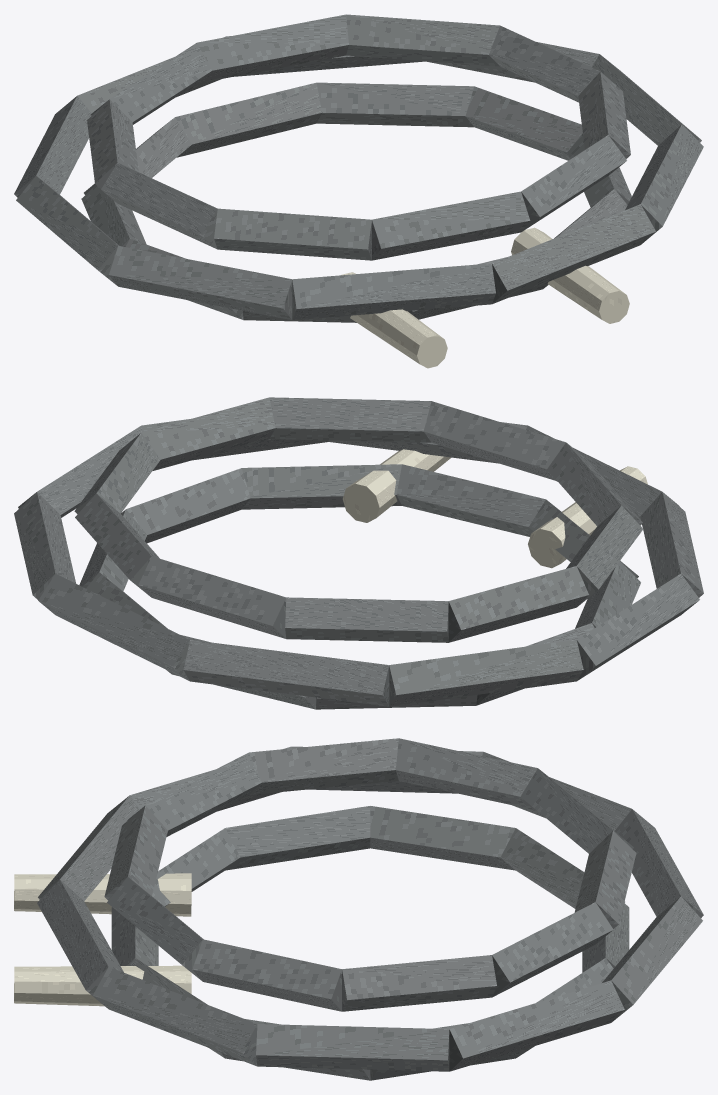
The picture shows the model from 3 angles, top to bottom: view 1: azimuth 30°, elevation 25°; view 2: azimuth 150°, elevation 25°; view 3: azimuth 270°, elevation 25°; orthographic projection. The views are drawn at different scales.
Parts seen in each view (by area): view 1: block_steel-sheathed heating element1-1, block_steel-sheathed heating element1-2, block_steel-sheathed heating element2-0, block_steel-sheathed heating element1-0, block_steel-sheathed heating element2-9, block_steel-sheathed heating element0-8, block_steel-sheathed heating element2-5, block_insulated terminal (×2), block_steel-sheathed heating element2-4, block_steel-sheathed heating element0-7, block_steel-sheathed heating element2-1, block_steel-sheathed heating element0-9 (+19 smaller); view 2: block_steel-sheathed heating element1-5, block_steel-sheathed heating element1-4, block_steel-sheathed heating element2-3, block_steel-sheathed heating element2-8, block_steel-sheathed heating element2-4, block_steel-sheathed heating element1-6, block_steel-sheathed heating element0-2, block_steel-sheathed heating element2-2, block_steel-sheathed heating element2-9, block_steel-sheathed heating element2-7, block_insulated terminal (×2), block_steel-sheathed heating element0-1 (+19 smaller); view 3: block_steel-sheathed heating element1-8, block_steel-sheathed heating element1-7, block_steel-sheathed heating element1-9, block_insulated terminal (×2), block_steel-sheathed heating element2-6, block_steel-sheathed heating element2-7, block_steel-sheathed heating element2-1, block_steel-sheathed heating element0-5, block_steel-sheathed heating element0-4, block_steel-sheathed heating element2-2, block_steel-sheathed heating element2-5, block_steel-sheathed heating element1-6 (+19 smaller).
Part boxes in pixels (<box>): block_steel-sheathed heating element1-1: <box>292,263,495,320</box>; block_steel-sheathed heating element1-2: <box>109,245,292,319</box>; block_steel-sheathed heating element2-0: <box>214,208,371,260</box>; block_steel-sheathed heating element1-0: <box>492,204,655,304</box>; block_steel-sheathed heating element2-9: <box>372,191,530,260</box>; block_steel-sheathed heating element0-8: <box>316,82,474,127</box>; block_steel-sheathed heating element2-5: <box>346,14,499,66</box>; block_insulated terminal (×2): <box>341,227,629,368</box>; block_steel-sheathed heating element2-4: <box>197,14,348,83</box>; block_steel-sheathed heating element0-7: <box>175,82,321,157</box>; block_steel-sheathed heating element2-1: <box>101,162,217,249</box>; block_steel-sheathed heating element0-9: <box>465,86,582,160</box>; block_steel-sheathed heating element1-5: <box>183,640,389,706</box>; block_steel-sheathed heating element1-4: <box>389,639,583,706</box>; block_steel-sheathed heating element2-3: <box>285,597,448,642</box>; block_steel-sheathed heating element2-8: <box>269,397,431,442</box>; block_steel-sheathed heating element2-4: <box>138,556,286,638</box>; block_steel-sheathed heating element1-6: <box>38,573,189,681</box>; block_steel-sheathed heating element0-2: <box>396,464,545,536</box>; block_steel-sheathed heating element2-2: <box>448,566,588,642</box>; block_steel-sheathed heating element2-9: <box>423,401,565,480</box>; block_steel-sheathed heating element2-7: <box>141,397,275,470</box>; block_insulated terminal (×2): <box>342,449,647,568</box>; block_steel-sheathed heating element0-1: <box>242,464,401,509</box>; block_steel-sheathed heating element1-8: <box>256,1024,449,1071</box>; block_steel-sheathed heating element1-7: <box>449,980,624,1071</box>; block_steel-sheathed heating element1-9: <box>93,967,257,1066</box>; block_insulated terminal (×2): <box>14,873,191,1006</box>; block_steel-sheathed heating element2-6: <box>342,955,496,1011</box>; block_steel-sheathed heating element2-7: <box>192,939,341,1011</box>; block_steel-sheathed heating element2-1: <box>249,738,398,794</box>; block_steel-sheathed heating element0-5: <box>370,806,515,870</box>; block_steel-sheathed heating element0-4: <box>225,806,370,870</box>; block_steel-sheathed heating element2-2: <box>396,738,537,810</box>; block_steel-sheathed heating element2-5: <box>492,902,613,997</box>; block_steel-sheathed heating element1-6: <box>602,896,702,1021</box>.
Size of the model in its own units: 0.1184 by 0.0202 by 0.1142.
1 material, 1 textured.
